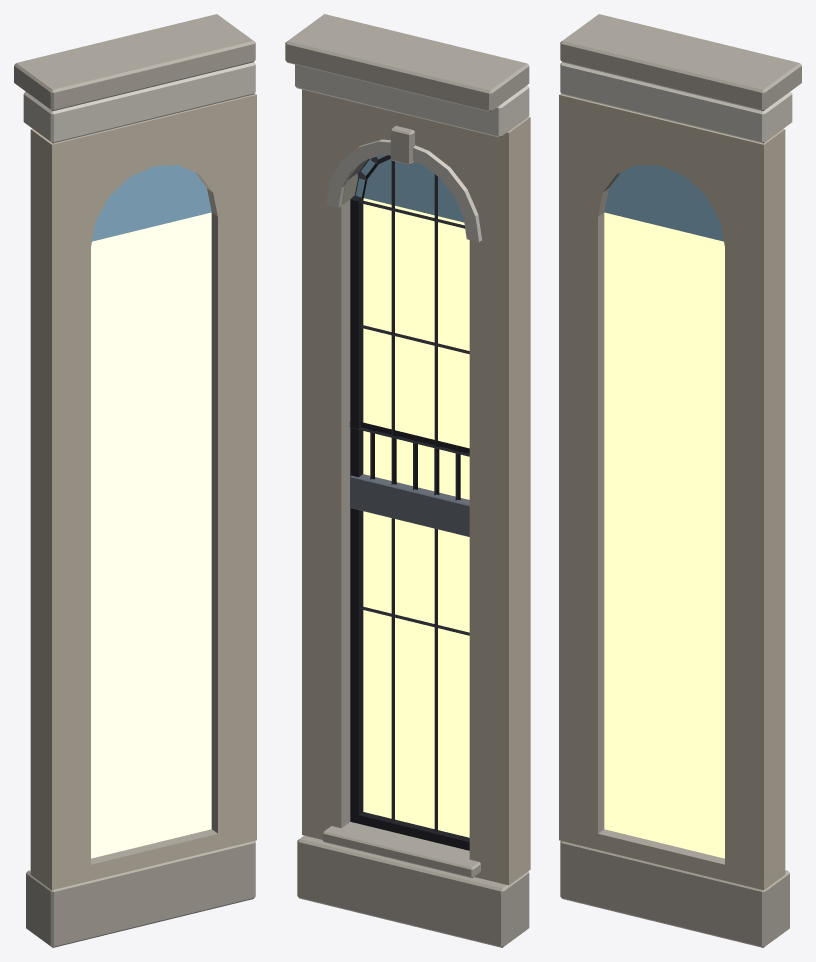
File: lib_wall_arch.glb
3 views of the same model, side by side, from view 1: azimuth 30°, elevation 25°; view 2: azimuth 150°, elevation 25°; view 3: azimuth 330°, elevation 25° (orthographic).
Visible parts, largest first — view 1: wall; view 2: wall; view 3: wall.
Boxes of the visible parts, box(x1,y1,x2,y2) form: wall: box(14, 14, 256, 947); wall: box(285, 14, 530, 947); wall: box(559, 14, 801, 947).
Size of the model in its own units: 2 by 8 by 0.66.
